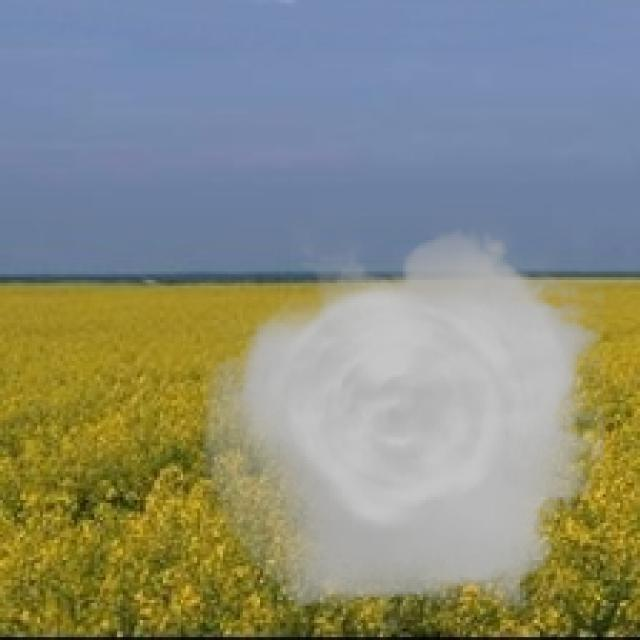smoke: (200, 217, 606, 629)
